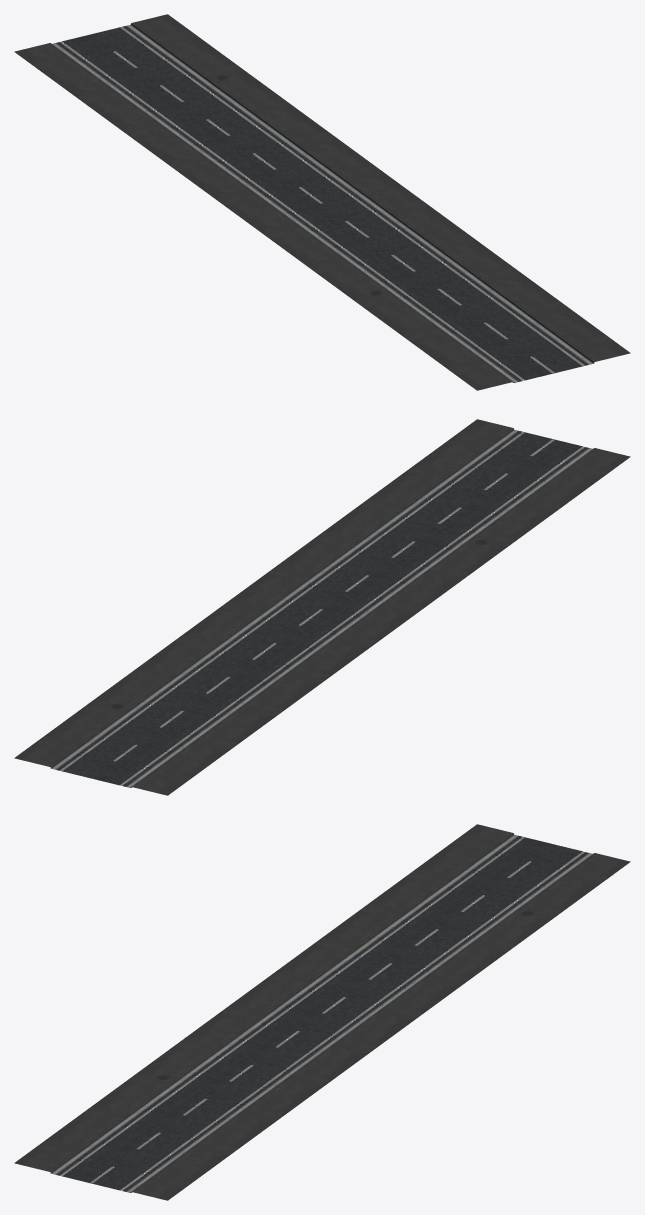
Rendered from city_road.fbx.
The picture shows the model from 3 angles, top to bottom: view 1: azimuth 30°, elevation 25°; view 2: azimuth 150°, elevation 25°; view 3: azimuth 330°, elevation 25°; orthographic projection.
Visible parts, largest first — view 1: obj0; view 2: obj0; view 3: obj0.
Part boxes in pixels (<box>): obj0: <box>14,14,630,390</box>; obj0: <box>14,419,630,795</box>; obj0: <box>14,824,630,1200</box>.
Size of the model in its own units: 29.21 by 0.254 by 152.
